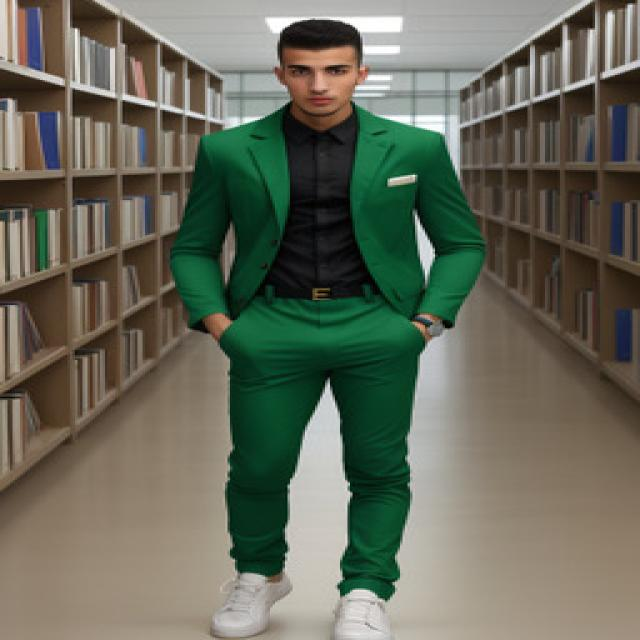Ai human 2: (155, 14, 500, 640)
